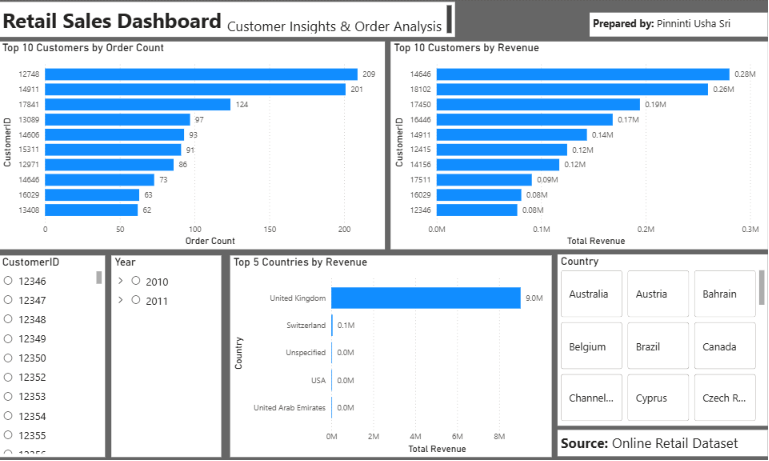

What the dashboard file says about the page in this screenshot:
{"tool":"powerbi","page":{"name":"Retail_Sales_Dashboard-Page3","canvas":[1280,720],"ordinal":2},"visuals":[{"type":"clusteredBarChart","title":"Top 10 Customers by Order Count","fields":{"Y":["online_retail_cleaned.Order Count"],"Category":["online_retail_cleaned.CustomerID"]},"box":[22.5,63.8,601.2,323.8],"z":0},{"type":"clusteredBarChart","title":"Top 10 Customers by Revenue","fields":{"Category":["online_retail_cleaned.CustomerID"],"Y":["online_retail_cleaned.Total Revenue"]},"box":[632.5,63.8,587.5,323.8],"z":1000},{"type":"advancedSlicerVisual","fields":{"Values":["online_retail_cleaned.Country"]},"box":[892.9,395.7,327.1,267.1],"z":2000},{"type":"listSlicer","fields":{"Values":["online_retail_cleaned.FixedInvoiceDate.Variation.Date Hierarchy.Year","online_retail_cleaned.FixedInvoiceDate.Variation.Date Hierarchy.Quarter","online_retail_cleaned.FixedInvoiceDate.Variation.Date Hierarchy.Month","online_retail_cleaned.FixedInvoiceDate.Variation.Date Hierarchy.Day"]},"box":[198.8,396.2,171.2,313.8],"z":3000},{"type":"listSlicer","fields":{"Values":["online_retail_cleaned.CustomerID"]},"box":[22.5,396.2,165,313.8],"z":4000},{"type":"clusteredBarChart","title":"Top 5 Countries by Revenue","fields":{"Category":["online_retail_cleaned.Country"],"Y":["online_retail_cleaned.Total Revenue"]},"box":[382.5,396.2,501.2,313.8],"z":5000},{"type":"textbox","box":[22.9,1.4,710,54.3],"z":6000},{"type":"textbox","box":[942.9,18.6,277.1,37.1],"z":7000},{"type":"textbox","box":[892.9,668.6,327.1,41.4],"z":8000}]}

Visuals, with their boxes in screenshot pixels (x1, y1, x2, y2):
"Top 10 Customers by Order Count" clusteredBarChart: bbox=[0, 41, 381, 247]
"Top 10 Customers by Revenue" clusteredBarChart: bbox=[387, 41, 761, 247]
advancedSlicerVisual - online_retail_cleaned.Country: bbox=[553, 252, 761, 422]
listSlicer - online_retail_cleaned.FixedInvoiceDate.Variation.Date Hierarchy.Year x online_retail_cleaned.FixedInvoiceDate.Variation.Date Hierarchy.Quarter: bbox=[111, 252, 220, 452]
listSlicer - online_retail_cleaned.CustomerID: bbox=[0, 252, 103, 452]
"Top 5 Countries by Revenue" clusteredBarChart: bbox=[228, 252, 547, 452]
textbox: bbox=[0, 1, 451, 35]
textbox: bbox=[584, 12, 761, 35]
textbox: bbox=[553, 426, 761, 452]
